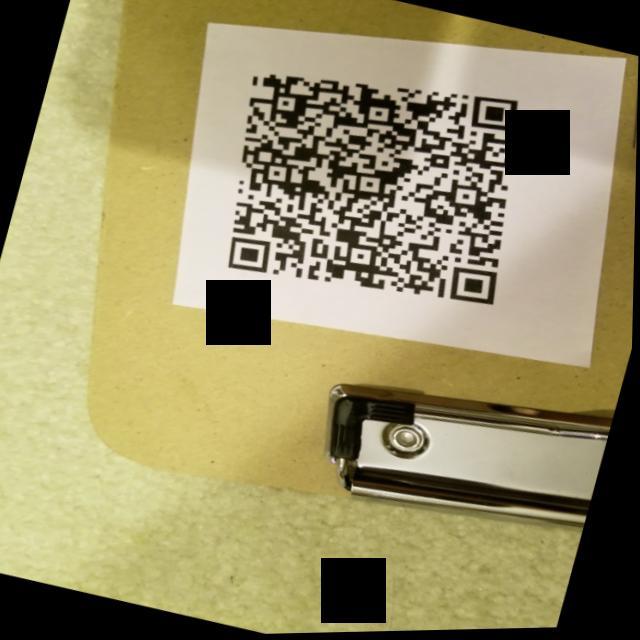QR_CODE: (192, 30, 555, 345)
